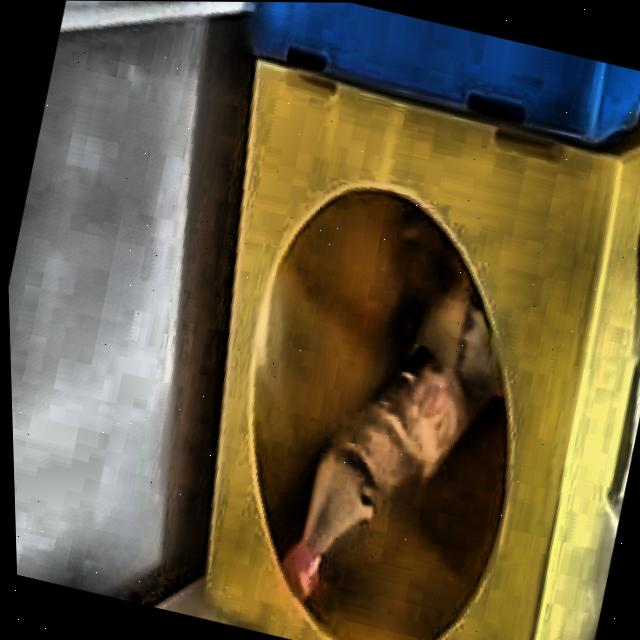plastic: (280, 275, 500, 599)
